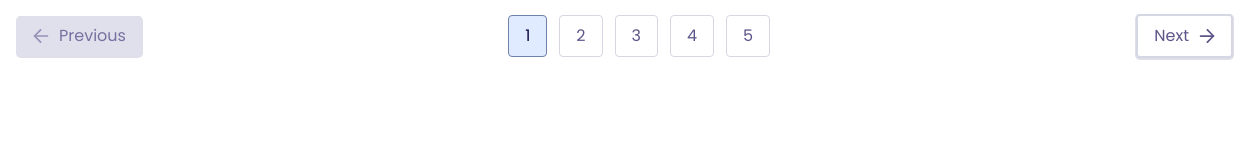
Test case: renders PaginationHandler component › base case
Check: the button "Previous" is disabled, box [17, 16, 142, 56]
Check: the button "Next" is enabled, box [1136, 14, 1233, 58]
Step 1. Click the button "2" → (581, 36), box [559, 15, 602, 57]
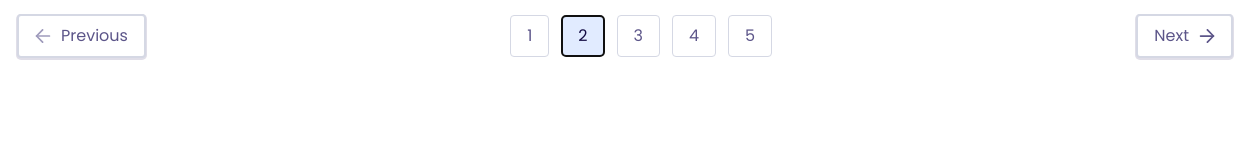
Check: the button "Previous" is enabled, box [17, 14, 146, 58]
Step 2. Click the button "Next" → (1185, 36), box [1136, 14, 1233, 58]
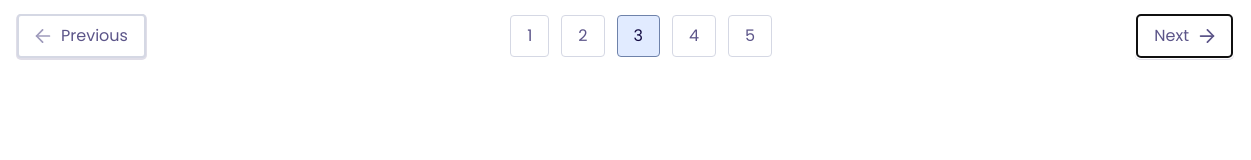
Step 3. Click the button "5" → (750, 36), box [728, 15, 772, 57]
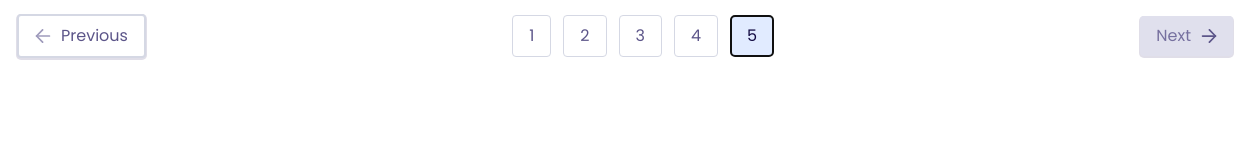
Check: the button "Previous" is enabled, box [17, 14, 146, 58]
Check: the button "Next" is disabled, box [1140, 16, 1233, 56]
